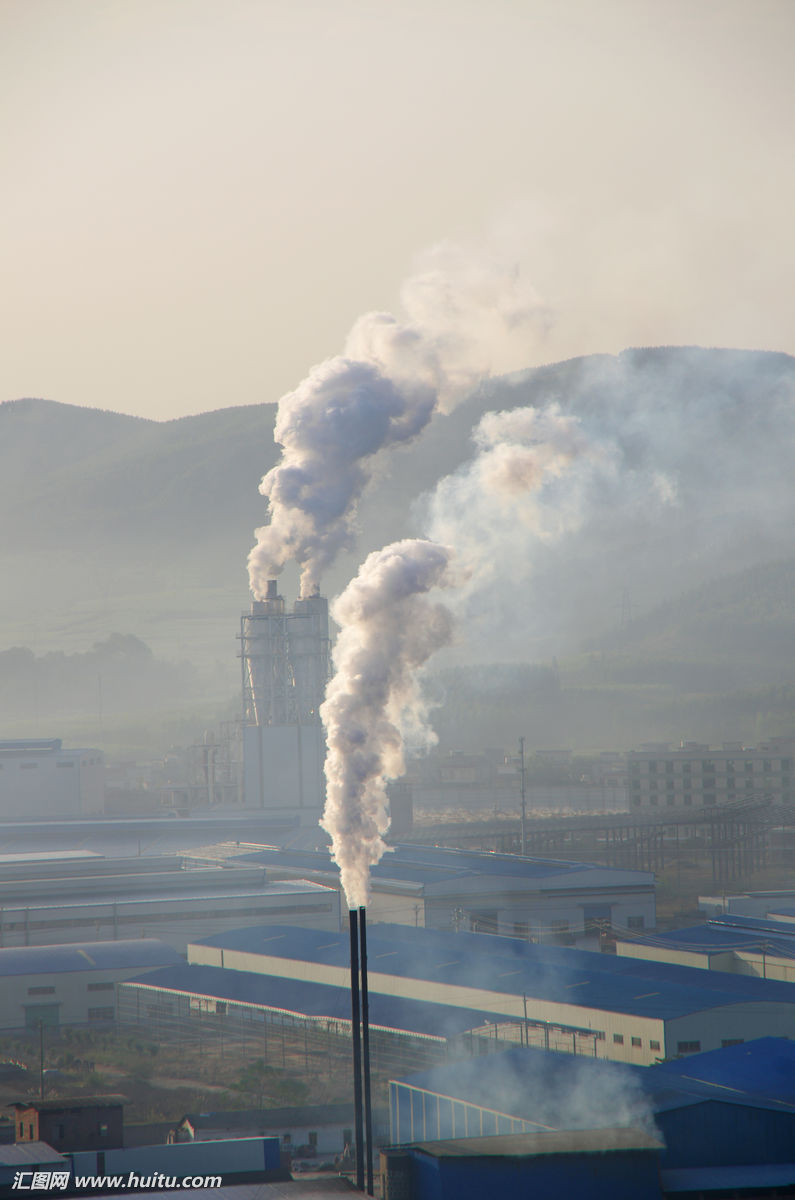dust: (298, 548, 491, 913), (243, 295, 439, 595)
